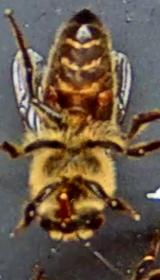varroa_mite: (92, 85, 120, 114), (39, 78, 61, 112)
